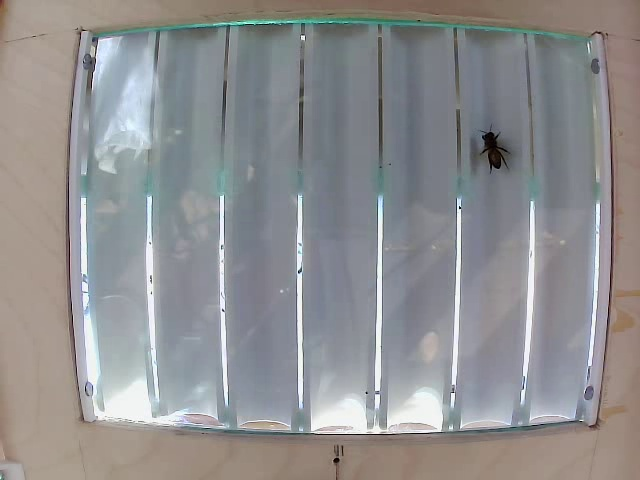bee: (478, 123, 504, 176)
